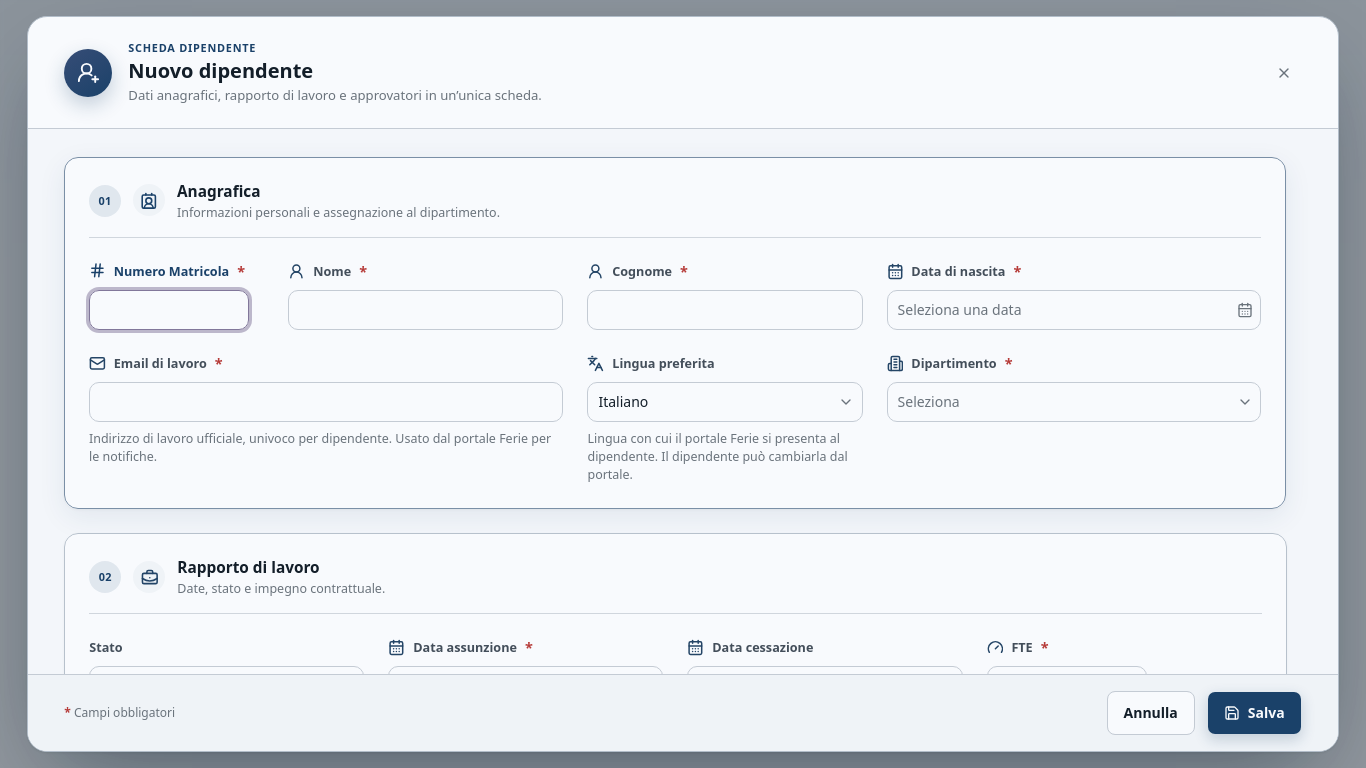
EmployeeForm modal › keeps focus in a controlled field while the parent rerenders
This screenshot has width=1366, height=768.
Step 1. Click the field named "Nome" → (426, 310), box [289, 290, 564, 330]
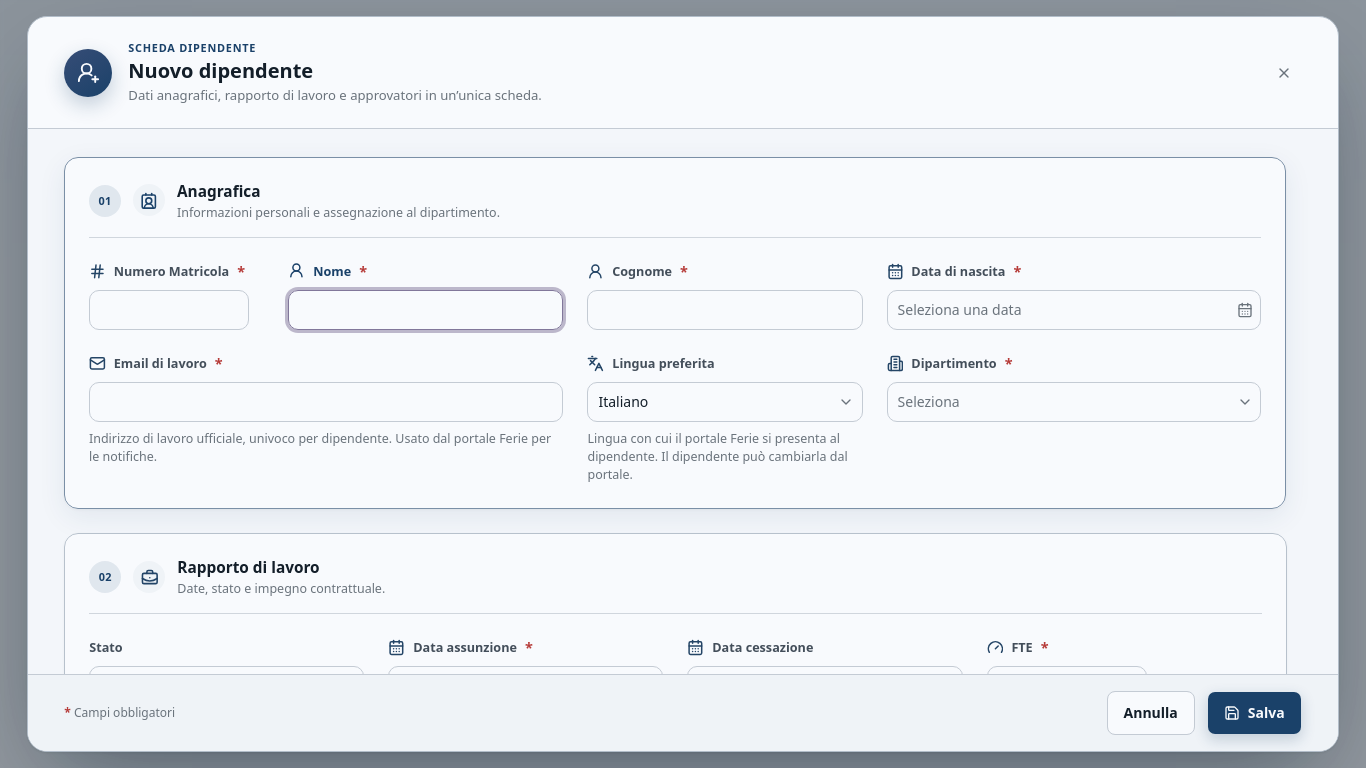
Step 2. Type keys "Ada"
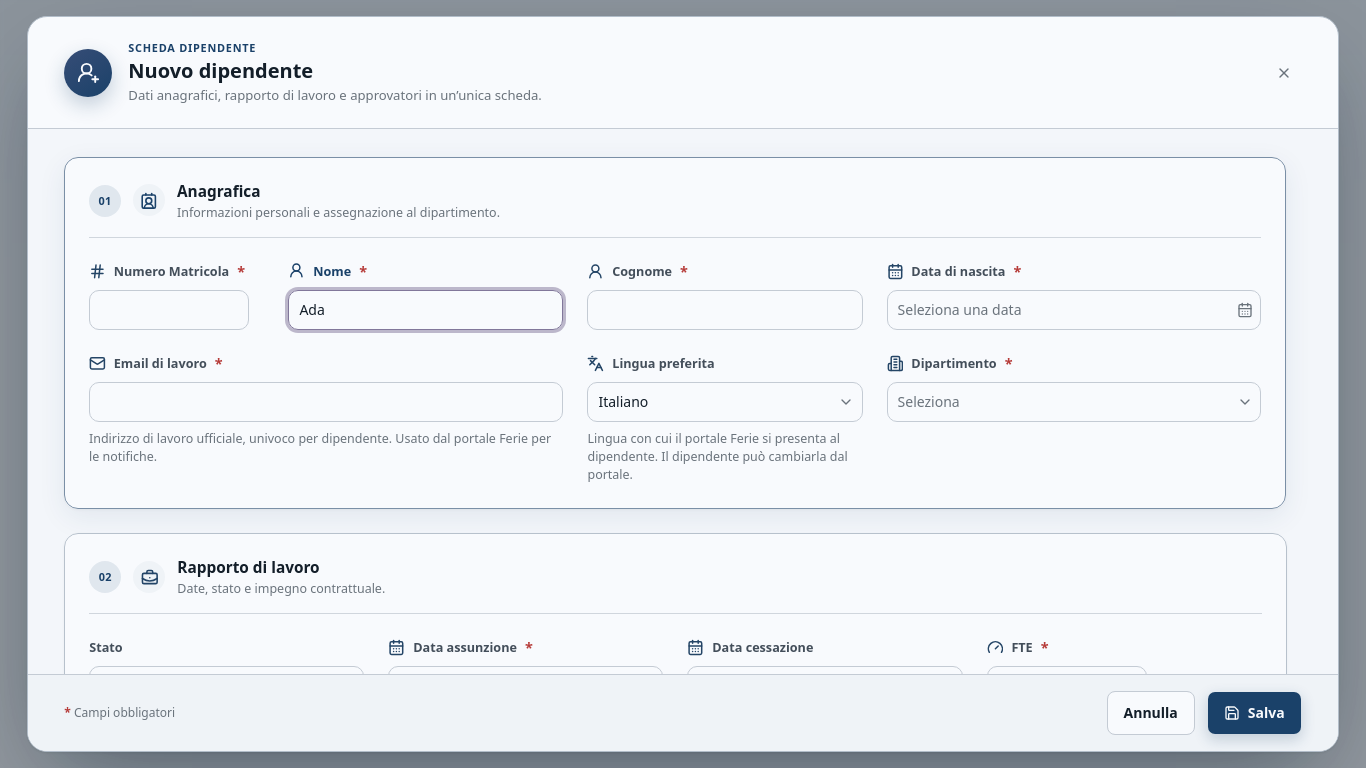
Expected: the field named "Numero Matricola" is empty, [89, 290, 249, 330]
Expected: the field named "Nome" holds "Ada", [289, 290, 564, 330]
